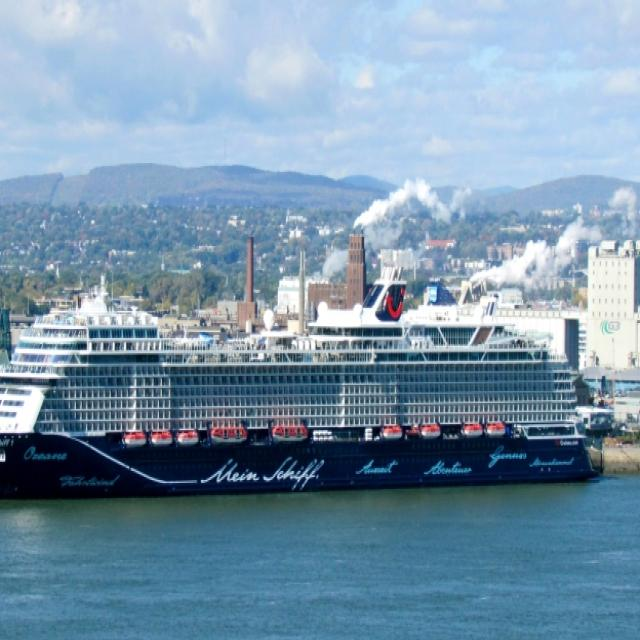cruises: (1, 258, 624, 504)
